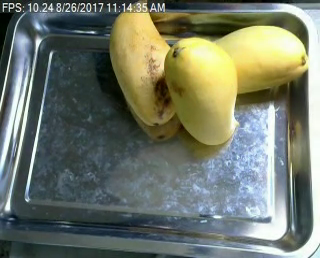Mango: (109, 1, 179, 124), (165, 37, 237, 144), (204, 24, 308, 94)
